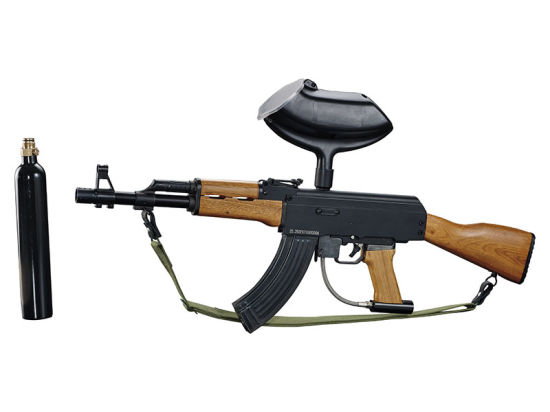Arma Falsa: (74, 77, 538, 335)
